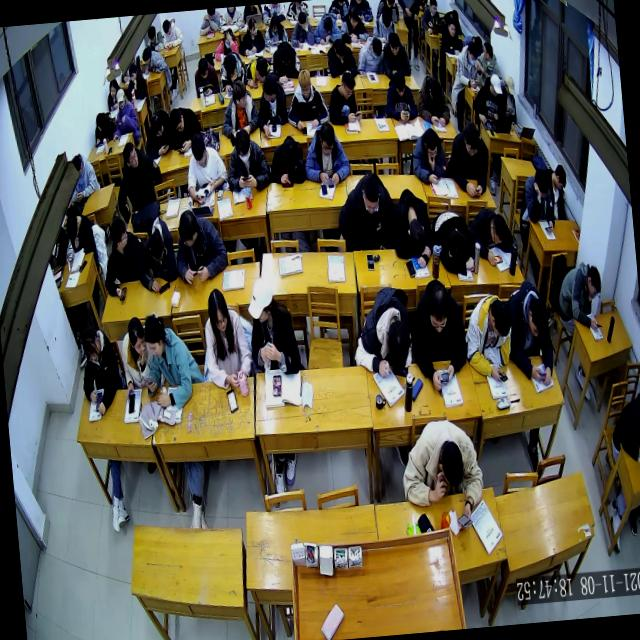bow: (397, 414, 487, 533), (347, 286, 413, 381), (171, 208, 228, 284), (388, 185, 434, 269), (134, 218, 178, 294), (466, 205, 516, 268), (429, 207, 474, 275), (266, 132, 307, 184), (415, 74, 451, 128), (168, 103, 202, 151), (141, 108, 173, 158), (266, 40, 302, 84), (326, 35, 358, 78), (338, 5, 369, 42), (312, 10, 342, 44), (244, 54, 272, 88), (212, 26, 239, 60), (141, 42, 168, 74), (92, 108, 115, 144), (144, 26, 164, 52)
down: (555, 260, 604, 331), (384, 317, 412, 366), (424, 280, 448, 332), (438, 440, 464, 488), (142, 312, 165, 358), (206, 287, 228, 331), (488, 296, 512, 336), (526, 296, 548, 338), (360, 175, 380, 212), (80, 326, 98, 362), (317, 121, 336, 155), (234, 128, 252, 162), (462, 124, 480, 158), (488, 212, 507, 244), (190, 132, 206, 166), (586, 265, 602, 299), (280, 138, 298, 168), (534, 168, 550, 200), (339, 69, 356, 99), (147, 230, 164, 260), (422, 128, 438, 159), (64, 212, 80, 238), (297, 70, 311, 98), (168, 108, 184, 132), (392, 71, 406, 96), (370, 34, 383, 58), (554, 162, 566, 188), (489, 72, 502, 96), (466, 40, 478, 66), (428, 78, 442, 100), (223, 54, 236, 77), (278, 42, 291, 65), (332, 39, 346, 60), (388, 32, 400, 56), (150, 114, 163, 136), (71, 154, 82, 178), (94, 110, 106, 132), (255, 56, 268, 76), (503, 74, 515, 94), (348, 4, 358, 27), (198, 58, 208, 80), (322, 14, 333, 34), (382, 8, 392, 30), (222, 28, 232, 48), (298, 10, 308, 30), (127, 63, 137, 82), (146, 24, 156, 42), (160, 16, 170, 32), (270, 13, 278, 32), (429, 0, 438, 15)
lookup: (116, 88, 126, 110), (108, 77, 117, 98), (446, 20, 456, 38)
sit: (406, 277, 469, 390), (140, 310, 202, 410), (244, 276, 302, 377), (199, 286, 252, 391), (506, 277, 556, 388), (334, 172, 396, 252), (461, 292, 515, 383), (111, 140, 164, 220), (77, 324, 122, 414), (99, 216, 146, 300), (182, 128, 228, 204), (301, 120, 351, 187), (443, 120, 487, 196), (224, 127, 270, 193), (282, 68, 330, 131), (119, 314, 155, 397), (219, 76, 259, 136), (522, 167, 555, 234), (409, 125, 447, 183), (253, 75, 288, 136), (324, 70, 362, 124), (382, 68, 418, 122), (470, 72, 505, 126), (108, 86, 140, 140), (69, 151, 100, 200), (380, 28, 410, 76), (453, 38, 482, 86), (65, 211, 96, 254), (545, 162, 568, 219), (217, 50, 247, 91), (354, 34, 384, 75), (236, 16, 266, 54), (192, 56, 220, 96), (369, 6, 397, 44), (476, 40, 501, 81), (288, 10, 314, 47), (125, 62, 148, 102), (500, 74, 518, 124), (439, 19, 463, 56), (262, 14, 288, 47), (419, 0, 441, 35), (161, 16, 184, 48), (105, 77, 120, 108)
